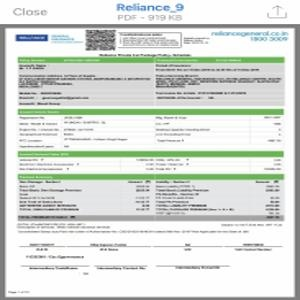image: (16, 34, 49, 43)
table: (17, 57, 286, 108), (19, 174, 284, 222), (17, 108, 285, 151), (16, 152, 285, 173)
text: (15, 222, 282, 237), (209, 30, 290, 45)
